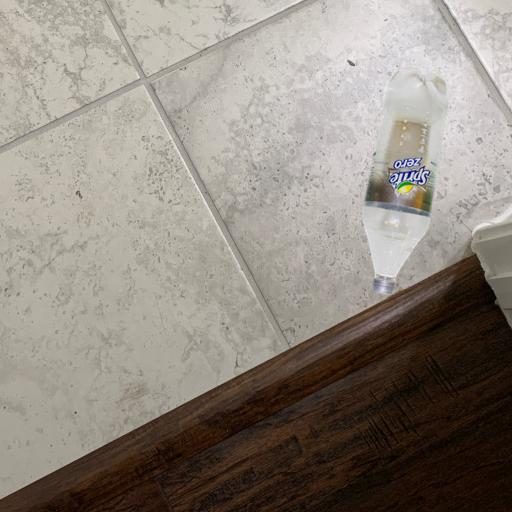plastic_bottle: (361, 71, 452, 294)
